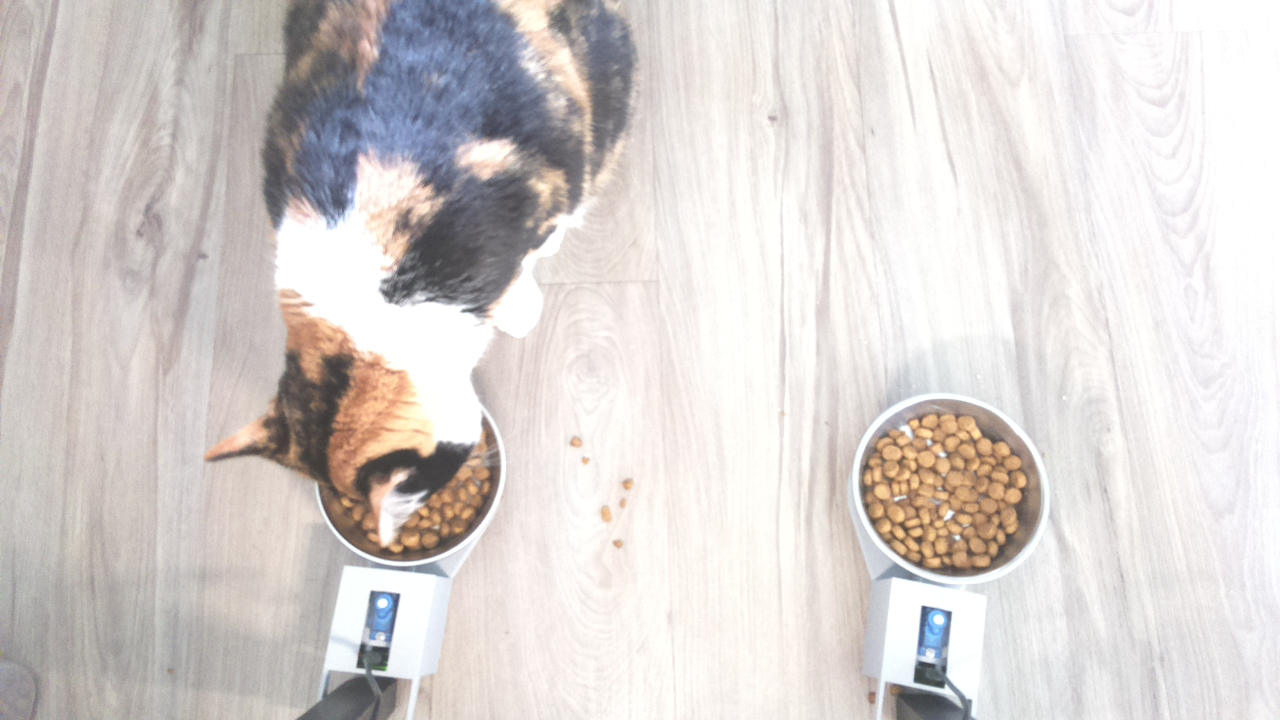bella_eating: (202, 239, 522, 570)
open_bowl: (849, 390, 1054, 586)
